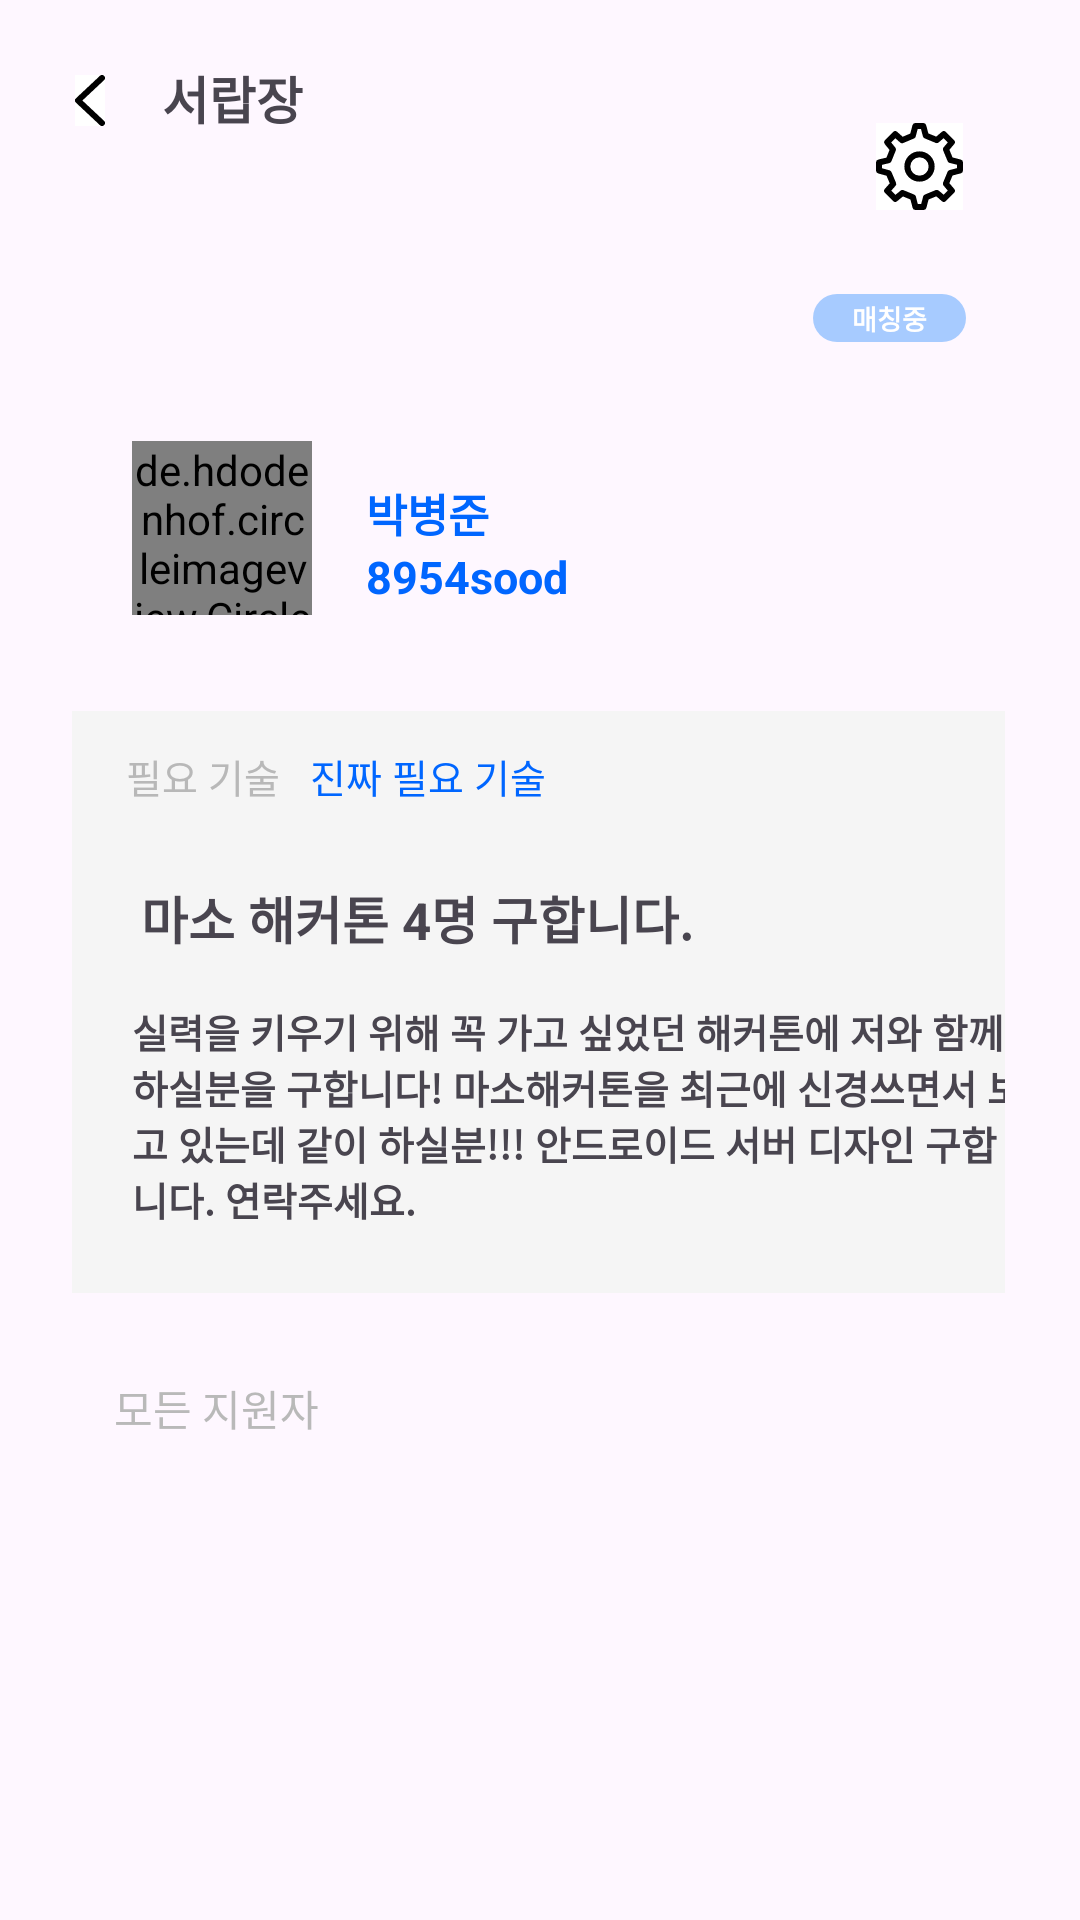

Locate icon controls on the screen. Image size 1080px x 1920px, boxes as (x1, y1, x2, y2).
back: (75, 75, 105, 126)
setting: (876, 123, 963, 210)
